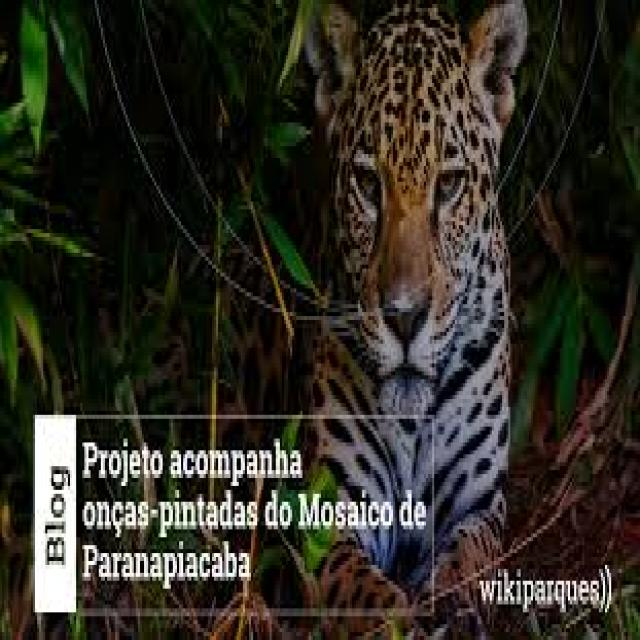Jaguar: (296, 8, 506, 589)
